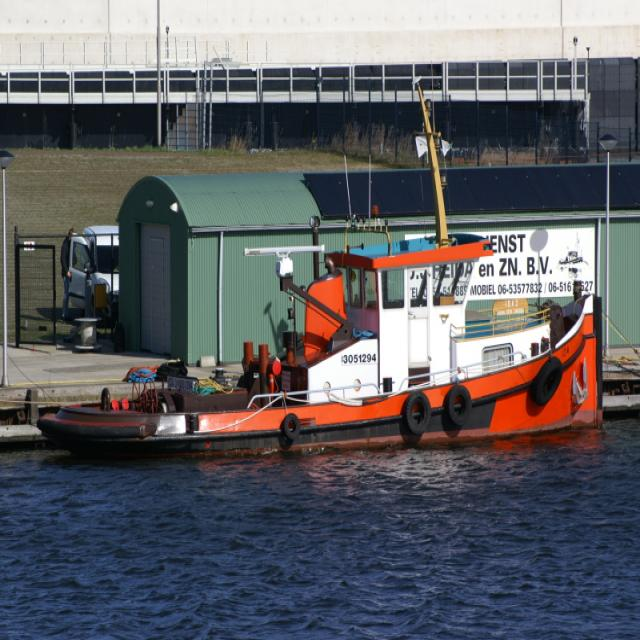tugboat: (27, 223, 612, 470)
